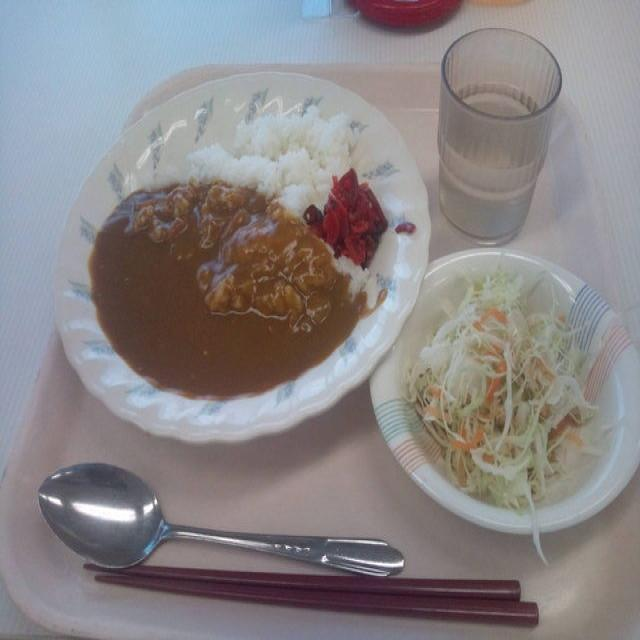Beef Curry: (80, 151, 384, 392)
Green Salad: (414, 278, 586, 482)
